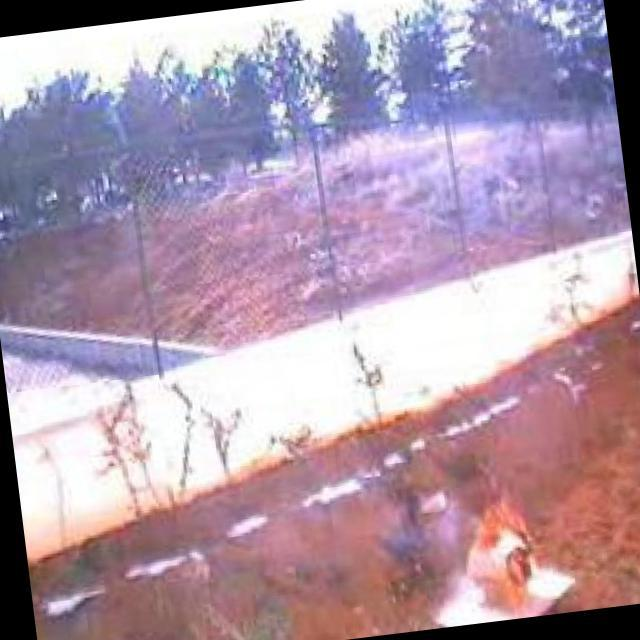Fire: (455, 479, 545, 621)
